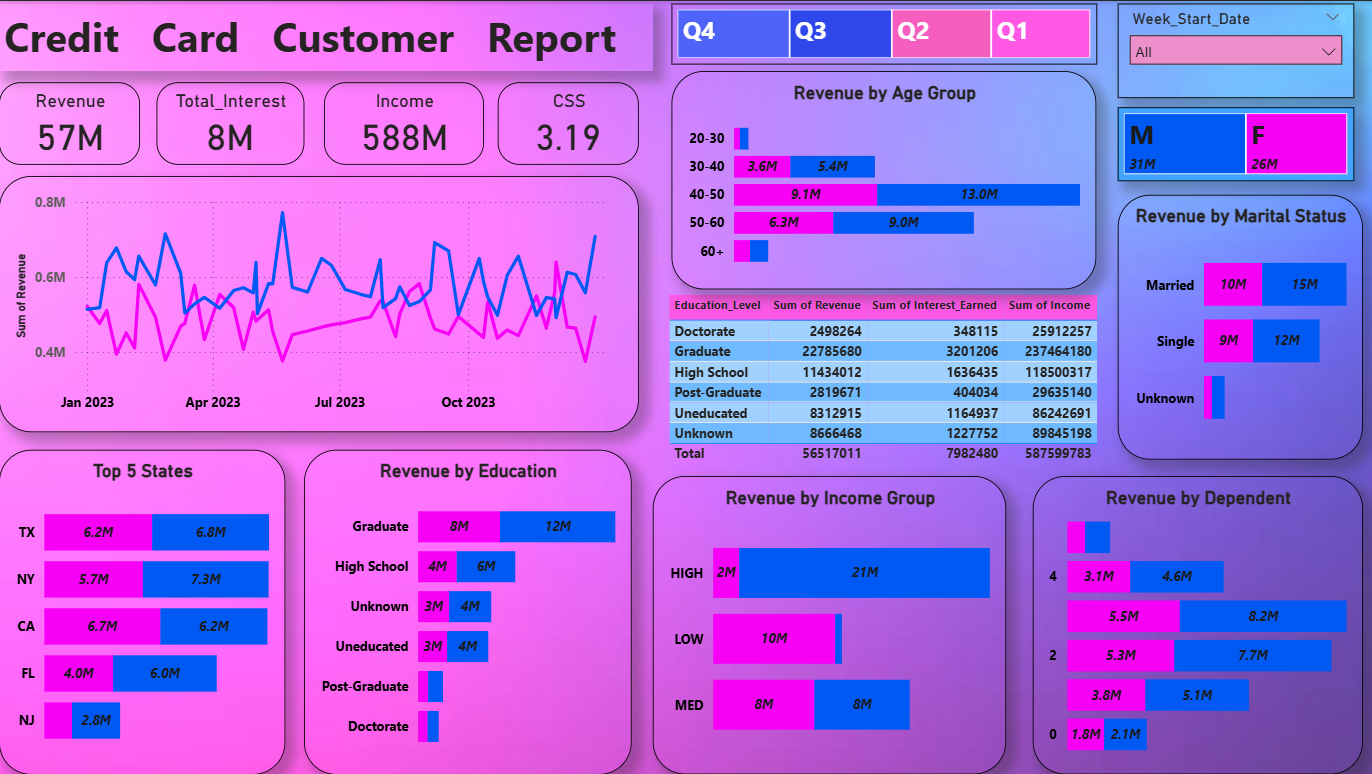

This screenshot's page, from the dashboard's own definition file:
{"tool":"powerbi","page":{"name":"CC_Customer_Dashboard","canvas":[1280,720],"ordinal":2},"visuals":[{"type":"textbox","box":[0,2.1,608.3,63.2],"z":0},{"type":"barChart","title":"Revenue by Income Group","fields":{"Y":["Sum(ccdb cc_detail.Revenue)"],"Category":["ccdb cust_detail.IncomeGroup"],"Series":["ccdb cust_detail.Gender"]},"box":[608.1,441.9,329.1,277.9],"z":1000},{"type":"tableEx","fields":{"Values":["ccdb cust_detail.Education_Level","Sum(ccdb cc_detail.Revenue)","Sum(ccdb cc_detail.Interest_Earned)","Sum(ccdb cust_detail.Income)"]},"box":[617.4,268.6,419.8,173.3],"z":2000},{"type":"card","title":"CSS","fields":{"Values":["Avg(ccdb cust_detail.Cust_Satisfaction_Score)"]},"box":[464,75.6,131.4,76.7],"z":3000},{"type":"slicer","fields":{"Values":["ccdb cc_detail.Week_Start_Date"]},"box":[1040.7,2.3,219.8,88.4],"z":4000},{"type":"treemap","fields":{"Group":["ccdb cc_detail.Qtr"],"Values":["Avg(ccdb cc_detail.ï»¿Client_Num)"]},"box":[625.9,2.1,395.9,57],"z":5000},{"type":"card","title":"Revenue","fields":{"Values":["Sum(ccdb cc_detail.Revenue)"]},"box":[0,75.6,131.4,76.7],"z":6000},{"type":"card","title":"Income","fields":{"Values":["Sum(ccdb cust_detail.Income)"]},"box":[302.3,75.6,148.8,76.7],"z":7000},{"type":"card","title":"Total_Interest","fields":{"Values":["Sum(ccdb cc_detail.Interest_Earned)"]},"box":[146.5,75.6,137.2,76.7],"z":8000},{"type":"lineChart","fields":{"Y":["Sum(ccdb cc_detail.Revenue)"],"Series":["ccdb cust_detail.Gender"],"Category":["ccdb cc_detail.Week_Start_Date.Variation.Date Hierarchy.Year","ccdb cc_detail.Week_Start_Date.Variation.Date Hierarchy.Month","ccdb cc_detail.Week_Start_Date.Variation.Date Hierarchy.Day"]},"box":[0,162.8,595.4,238.4],"z":9000},{"type":"treemap","fields":{"Group":["ccdb cust_detail.Gender"],"Values":["Sum(ccdb cc_detail.Revenue)"]},"box":[1040.7,98.8,219.8,68.6],"z":10000},{"type":"barChart","title":"Revenue by Age Group","fields":{"Y":["Sum(ccdb cc_detail.Revenue)"],"Category":["ccdb cust_detail.Age_Group"],"Series":["ccdb cust_detail.Gender"]},"box":[625.6,65.1,395.3,203.5],"z":11000},{"type":"barChart","title":"Revenue by Dependent ","fields":{"Y":["Sum(ccdb cc_detail.Revenue)"],"Category":["ccdb cust_detail.Dependent_Count"],"Series":["ccdb cust_detail.Gender"]},"box":[961.6,441.9,307,277.9],"z":12000},{"type":"barChart","title":"Revenue by Education","fields":{"Y":["Sum(ccdb cc_detail.Revenue)"],"Category":["ccdb cust_detail.Education_Level"],"Series":["ccdb cust_detail.Gender"]},"box":[283.7,417.4,304.7,302.3],"z":13000},{"type":"barChart","title":"Top 5 States","fields":{"Y":["Sum(ccdb cc_detail.Revenue)"],"Category":["ccdb cust_detail.state_cd"],"Series":["ccdb cust_detail.Gender"]},"box":[0,417.4,266.3,302.3],"z":14000},{"type":"barChart","title":"Revenue by Marital Status","fields":{"Y":["Sum(ccdb cc_detail.Revenue)"],"Category":["ccdb cust_detail.Marital_Status"],"Series":["ccdb cust_detail.Gender"]},"box":[1040.7,180.2,227.9,246.5],"z":15000}]}

Visuals, with their boxes in screenshot pixels (x1, y1, x2, y2), scaled from the page's 1280x720 canvas onto the 1372x774 screenshot:
textbox: (0, 2, 652, 70)
"Revenue by Income Group" barChart: (652, 475, 1005, 773)
tableEx - ccdb cust_detail.Education_Level x Sum(ccdb cc_detail.Revenue): (662, 289, 1112, 475)
"CSS" card: (497, 81, 638, 164)
slicer - ccdb cc_detail.Week_Start_Date: (1116, 2, 1351, 98)
treemap - ccdb cc_detail.Qtr x Avg(ccdb cc_detail.ï»¿Client_Num): (671, 2, 1095, 64)
"Revenue" card: (0, 81, 141, 164)
"Income" card: (324, 81, 484, 164)
"Total_Interest" card: (157, 81, 304, 164)
lineChart - Sum(ccdb cc_detail.Revenue) x ccdb cust_detail.Gender: (0, 175, 638, 431)
treemap - ccdb cust_detail.Gender x Sum(ccdb cc_detail.Revenue): (1116, 106, 1351, 180)
"Revenue by Age Group" barChart: (671, 70, 1094, 289)
"Revenue by Dependent " barChart: (1031, 475, 1360, 773)
"Revenue by Education" barChart: (304, 449, 631, 773)
"Top 5 States" barChart: (0, 449, 285, 773)
"Revenue by Marital Status" barChart: (1116, 194, 1360, 459)
